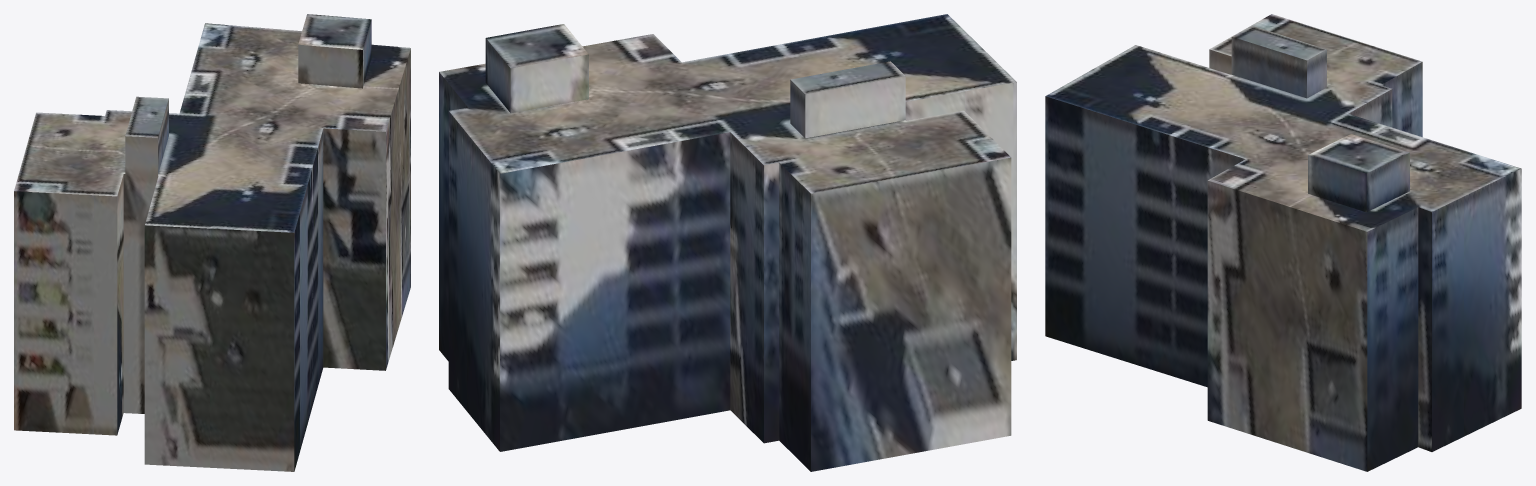
The model's file is DEB_LOD2_UUID_77fa04e9-0df3-4072-9235-30524305d535.dae.
3 views of the same model, side by side, from view 1: azimuth 30°, elevation 25°; view 2: azimuth 150°, elevation 25°; view 3: azimuth 270°, elevation 25° (orthographic). The views are drawn at different scales.
Size of the model in its own units: 35.87 by 33.13 by 21.42.
2 materials, 1 textured.
